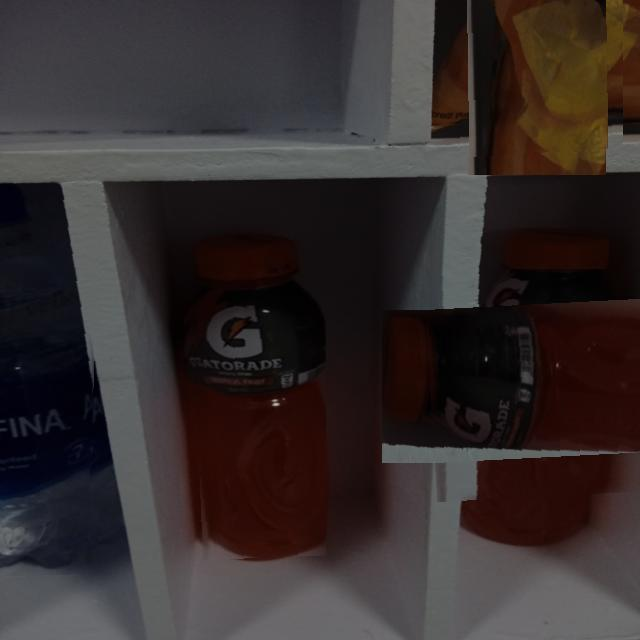Plastic: (422, 269, 640, 502), (189, 240, 326, 560), (0, 188, 101, 577), (449, 0, 623, 158)
